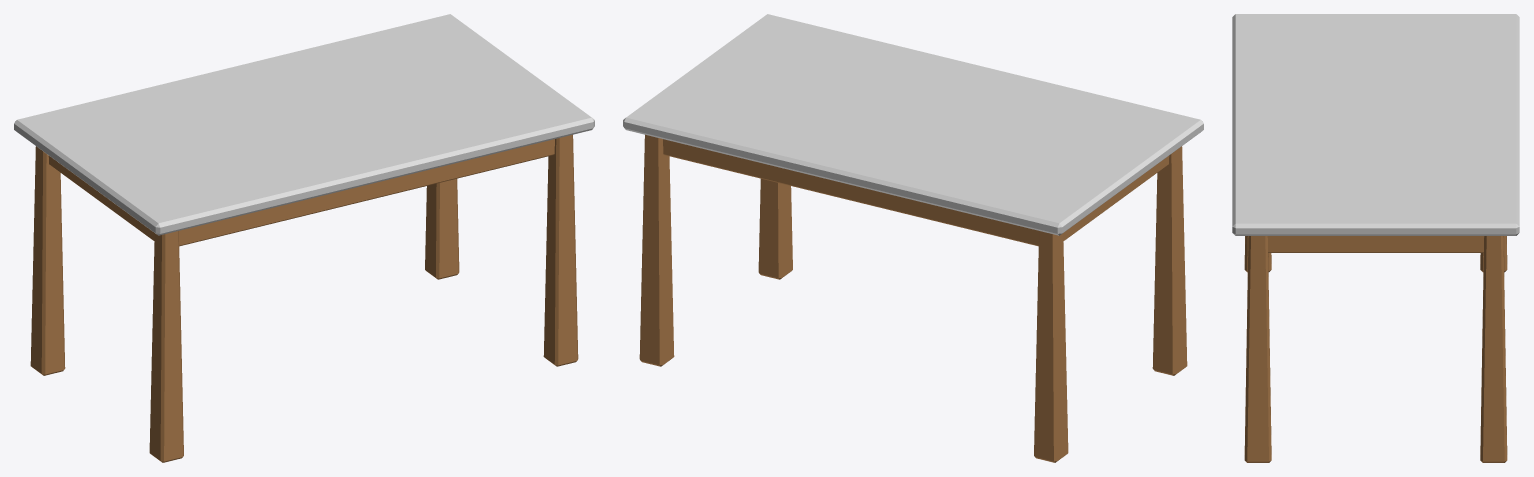
File: table-dining-4.glb
3 renders of one model, left to right at view 1: azimuth 30°, elevation 25°; view 2: azimuth 150°, elevation 25°; view 3: azimuth 270°, elevation 25°, orthographic.
Visible parts, largest first — view 1: table-dining-4.tint, table-dining-4.wood; view 2: table-dining-4.tint, table-dining-4.wood; view 3: table-dining-4.tint, table-dining-4.wood.
Boxes of the visible parts, left/top/right/bottom form: table-dining-4.tint: left=14, top=14, right=594, bottom=235; table-dining-4.wood: left=30, top=134, right=578, bottom=462; table-dining-4.tint: left=623, top=14, right=1203, bottom=235; table-dining-4.wood: left=639, top=134, right=1187, bottom=462; table-dining-4.tint: left=1232, top=14, right=1519, bottom=235; table-dining-4.wood: left=1244, top=236, right=1507, bottom=462.
Size of the model in its own units: 1.4 by 0.75 by 0.8.
